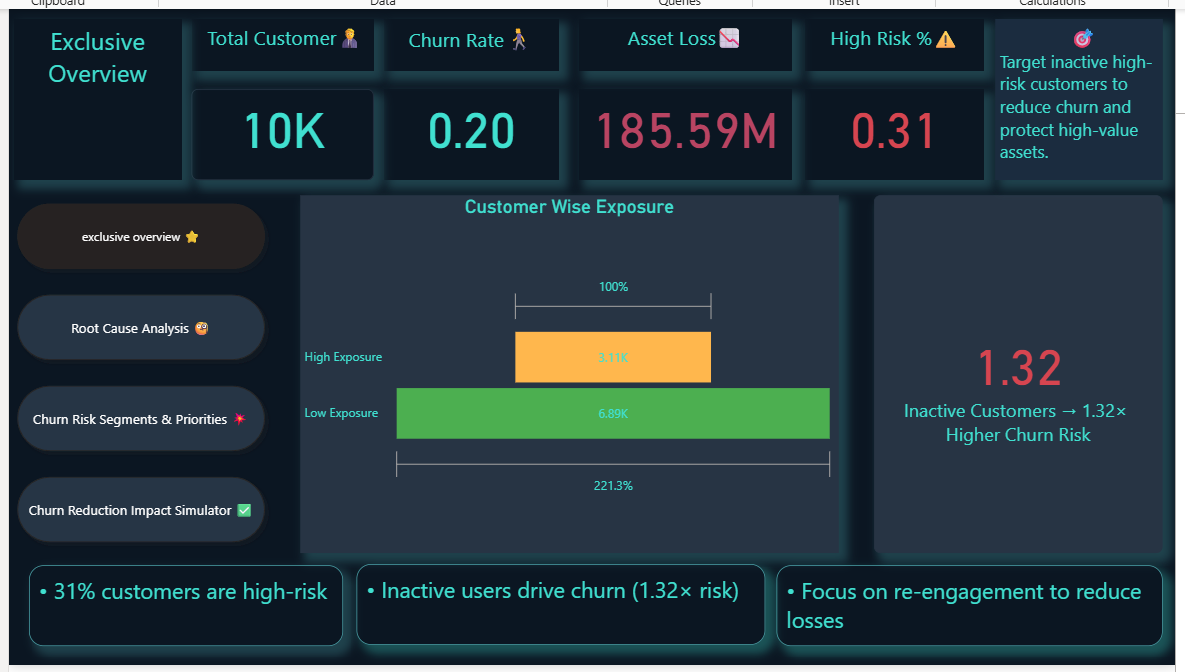

Layout of this report page (visuals, bound fields, positions):
{"tool":"powerbi","page":{"name":"exclusive overview ⭐","canvas":[1280,720],"ordinal":0},"visuals":[{"type":"textbox","box":[18.5,587.9,1248.1,119.3],"z":1000},{"type":"card","title":"Total Customers","fields":{"Values":["churn.Total Customers"]},"box":[18.5,60.5,201.6,132.7],"z":2000},{"type":"card","title":"Churn Rate","fields":{"Values":["churn.Churn Rate"]},"box":[231.8,60.5,203.3,132.7],"z":3000},{"type":"card","title":"Asset Loss","fields":{"Values":["churn.Asset Loss"]},"box":[446.8,60.5,230.1,132.7],"z":4000},{"type":"card","title":"High Risk %","fields":{"Values":["churn.High Risk %"]},"box":[688.7,60.5,196.5,132.7],"z":5000},{"type":"funnel","title":"Customer Wise Exposure","fields":{"Category":["churn_behavior_segment.exposure_segment"],"Y":["CountNonNull(churn_behavior_segment.CustomerId)"]},"box":[319.2,204.9,603,364.5],"z":6000},{"type":"card","title":"Inactive Users = X.Xx Risk","fields":{"Values":["churn.Lift Active"]},"box":[939,204.9,327.6,364.5],"z":7000},{"type":"textbox","box":[922.2,33.6,344.4,154.5],"z":8000},{"type":"pageNavigator","box":[0,204.9,295.6,364.5],"z":9000},{"type":"textbox","box":[5,11.8,917.2,43.7],"z":10000},{"type":"image","box":[231.8,110.9,75.6,53.8],"z":11000},{"type":"image","box":[18.5,110.9,63.8,53.8],"z":12000},{"type":"image","box":[446.8,110.9,63.8,53.8],"z":13000},{"type":"image","box":[688.7,110.9,60.5,53.8],"z":14000},{"type":"image","box":[970.9,33.6,235.2,65.5],"z":15000},{"type":"image","box":[1031.4,262,136.1,97.4],"z":16000},{"type":"image","box":[70.6,651.8,48.7,55.4],"z":17000},{"type":"image","box":[359.5,648.4,62.2,53.8],"z":18000},{"type":"image","box":[809.7,648.4,62.2,57.1],"z":19000}]}

Visuals, with their boxes on the page's 1280x720 design canvas (x1, y1, x2, y2). These are canvas units, not pixel positions in the 1185x672 screenshot, which may show the page scaled, cropped or inside an application window:
textbox: x1=18 y1=588 x2=1267 y2=707
"Total Customers" card: x1=18 y1=60 x2=220 y2=193
"Churn Rate" card: x1=232 y1=60 x2=435 y2=193
"Asset Loss" card: x1=447 y1=60 x2=677 y2=193
"High Risk %" card: x1=689 y1=60 x2=885 y2=193
"Customer Wise Exposure" funnel: x1=319 y1=205 x2=922 y2=569
"Inactive Users = X.Xx Risk" card: x1=939 y1=205 x2=1267 y2=569
textbox: x1=922 y1=34 x2=1267 y2=188
pageNavigator: x1=0 y1=205 x2=296 y2=569
textbox: x1=5 y1=12 x2=922 y2=56
image: x1=232 y1=111 x2=307 y2=165
image: x1=18 y1=111 x2=82 y2=165
image: x1=447 y1=111 x2=511 y2=165
image: x1=689 y1=111 x2=749 y2=165
image: x1=971 y1=34 x2=1206 y2=99
image: x1=1031 y1=262 x2=1168 y2=359
image: x1=71 y1=652 x2=119 y2=707
image: x1=360 y1=648 x2=422 y2=702
image: x1=810 y1=648 x2=872 y2=706
